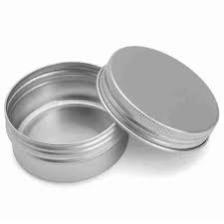metal: (0, 52, 125, 187), (95, 36, 224, 152)
